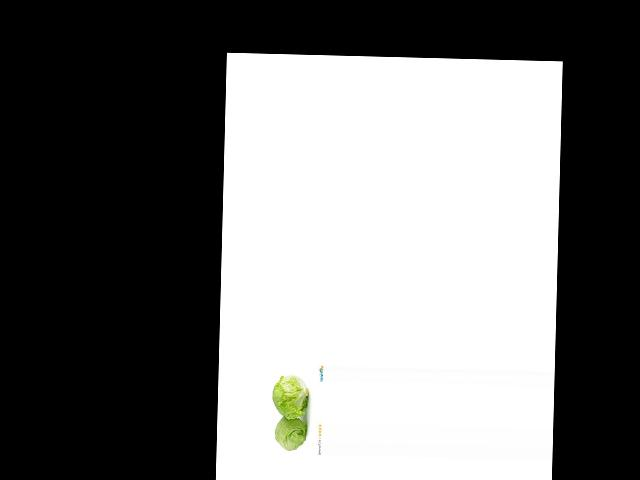lettuce: (274, 406, 314, 452)
